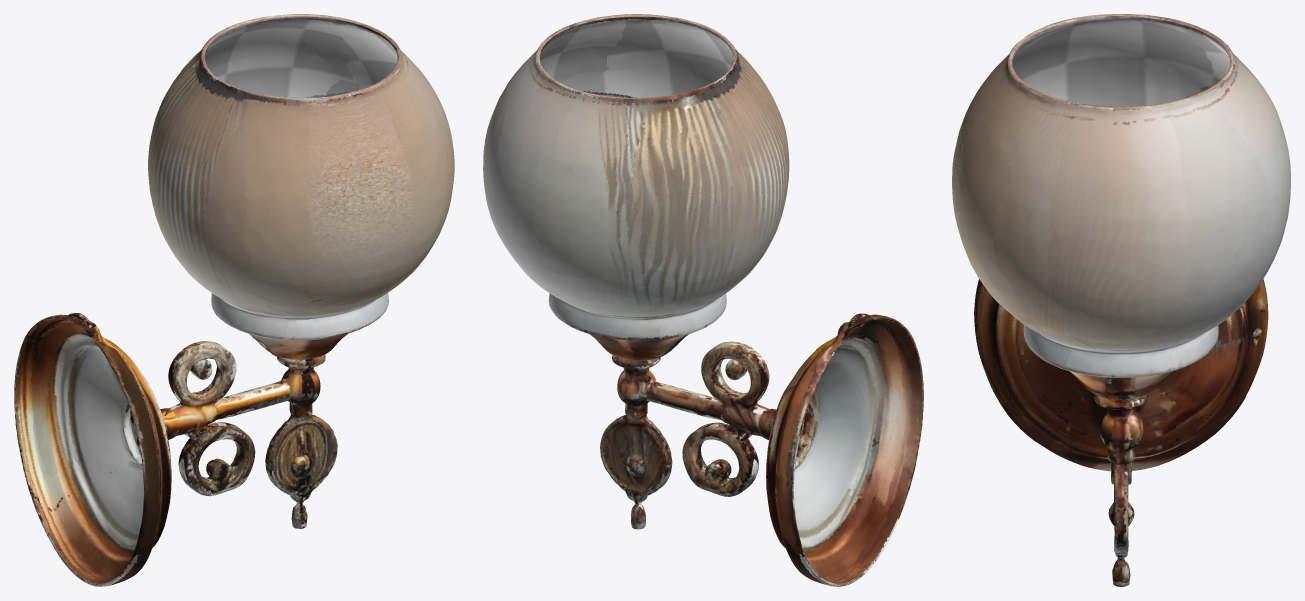
Rendered from text2tex.glb.
The picture shows the model from 3 angles, left to right: view 1: azimuth 30°, elevation 25°; view 2: azimuth 150°, elevation 25°; view 3: azimuth 270°, elevation 25°; orthographic projection. The views are drawn at different scales.
Parts seen in each view (by area): view 1: 9; view 2: 9; view 3: 9.
Part boxes in pixels (bbox=[...]): 9: bbox=[14, 14, 454, 586]; 9: bbox=[483, 14, 923, 586]; 9: bbox=[952, 14, 1290, 586].
Size of the model in its own units: 0.7904 by 1 by 0.5847.
Materials: 1 (1 with a texture image).
